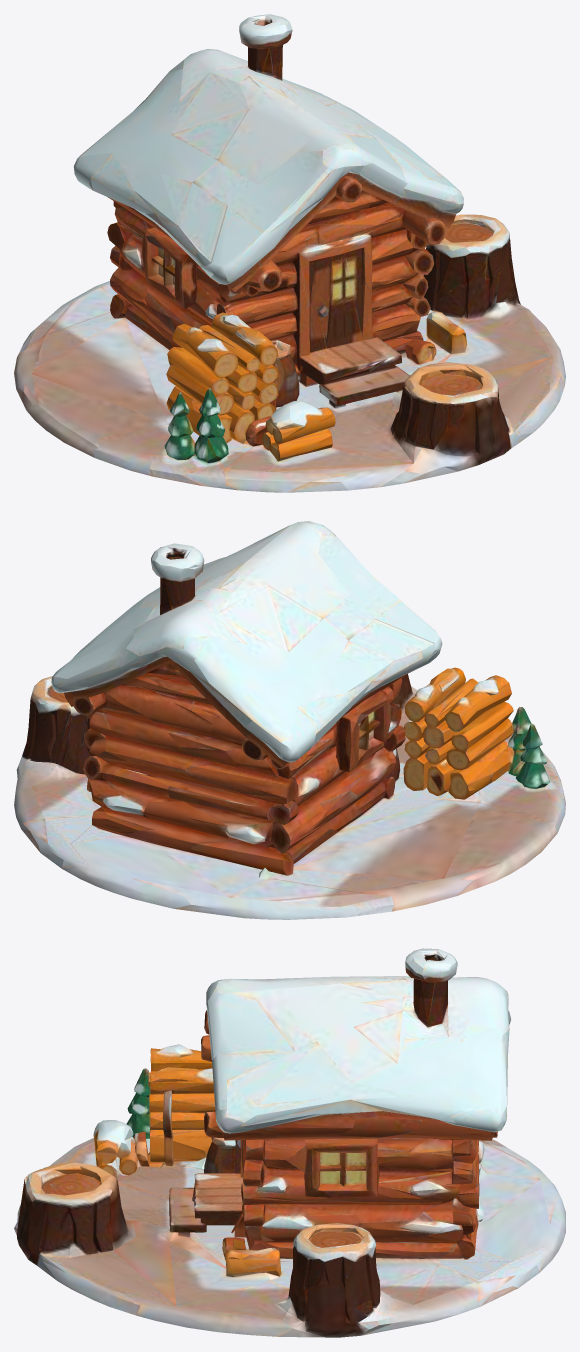
File: logger_lodge.glb
3 views of the same model, one above another, from view 1: azimuth 30°, elevation 25°; view 2: azimuth 150°, elevation 25°; view 3: azimuth 270°, elevation 25° (orthographic).
Size of the model in its own units: 1.89 by 1.1 by 1.9.
Materials: 1 (1 with a texture image).
